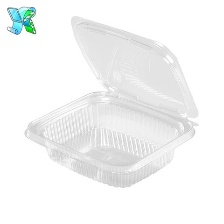plastic_box: (16, 11, 204, 194)
